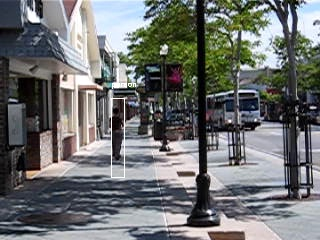person: (108, 107, 127, 163), (107, 107, 126, 163), (109, 107, 128, 163), (108, 106, 127, 162), (108, 108, 127, 164)
target_negative: (115, 51, 230, 203), (76, 63, 201, 190), (145, 166, 245, 218), (191, 103, 302, 130), (55, 186, 65, 196), (307, 95, 308, 181)
